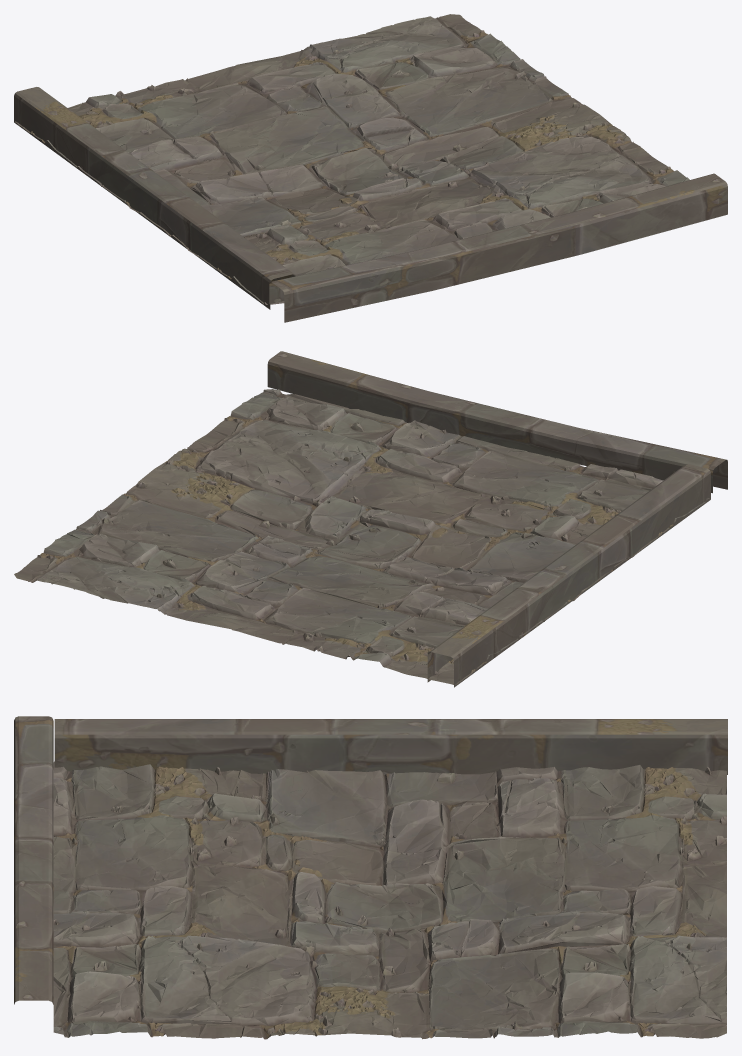
The model's file is Suelo2.fbx.
3 renders of one model, top to bottom at view 1: azimuth 30°, elevation 25°; view 2: azimuth 150°, elevation 25°; view 3: azimuth 270°, elevation 25°, orthographic. The views are drawn at different scales.
Visible parts, largest first — view 1: Plane.001; view 2: Plane.001; view 3: Plane.001.
Boxes of the visible parts, x1=… form: Plane.001: x1=14, y1=14, x2=727, y2=322; Plane.001: x1=14, y1=351, x2=727, y2=687; Plane.001: x1=14, y1=716, x2=727, y2=1039.
Size of the model in its own units: 200 by 18.56 by 212.
1 material, 1 textured.
